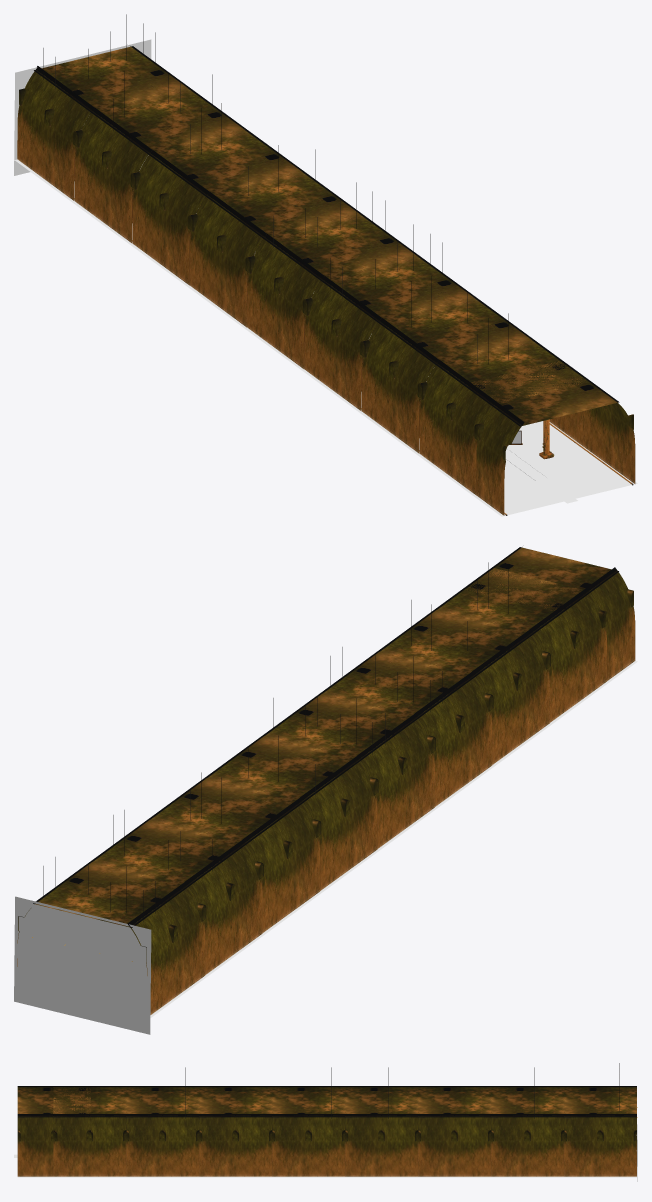
3 renders of one model, top to bottom at view 1: azimuth 30°, elevation 25°; view 2: azimuth 150°, elevation 25°; view 3: azimuth 270°, elevation 25°, orthographic. The views are drawn at different scales.
Visible parts, largest first — view 1: arch001, arch001.008, arch001.003, arch001.002, arch001.006, arch001.007, arch001.001, arch001.004, arch001.005, ceil001.012, ceil001.004, ceil001.008 (+9 smaller); view 2: floor.008, arch001.006, arch001.003, arch001.004, arch001.001, arch001.002, arch001.007, arch001, arch001.005, ceil001.008, ceil001.004, ceil001.002 (+7 smaller); view 3: arch001.001, arch001, arch001.007, arch001.004, arch001.006, arch001.002, arch001.003, arch001.005, arch001.008, ceil001.002, ceil001.004, ceil001.008 (+6 smaller).
Boxes of the visible parts, box(x1,y1,x2,y2) form: arch001: box(419, 340, 604, 495); arch001.008: box(448, 360, 635, 515); arch001.003: box(304, 255, 472, 411); arch001.002: box(247, 213, 415, 368); arch001.006: box(132, 130, 299, 285); arch001.007: box(189, 172, 358, 327); arch001.001: box(362, 297, 528, 453); arch001.004: box(75, 88, 241, 242); arch001.005: box(17, 46, 185, 200); ceil001.012: box(148, 130, 304, 195); ceil001.004: box(263, 213, 419, 279); ceil001.008: box(90, 87, 246, 153); floor.008: box(14, 896, 151, 1034); arch001.006: box(151, 777, 320, 932); arch001.003: box(324, 650, 492, 806); arch001.004: box(94, 819, 262, 974); arch001.001: box(381, 610, 549, 764); arch001.002: box(269, 694, 434, 848); arch001.007: box(210, 735, 377, 890); arch001: box(440, 572, 607, 722); arch001.005: box(17, 862, 205, 1014); ceil001.008: box(90, 819, 246, 885); ceil001.004: box(263, 693, 418, 759); ceil001.002: box(377, 609, 533, 675); arch001.001: box(126, 1086, 199, 1176); arch001: box(53, 1086, 126, 1176); arch001.007: box(345, 1086, 418, 1176); arch001.004: box(491, 1086, 564, 1176); arch001.006: box(418, 1086, 491, 1176); arch001.002: box(272, 1086, 345, 1176); arch001.003: box(199, 1086, 272, 1176); arch001.005: box(564, 1086, 636, 1176); arch001.008: box(17, 1086, 90, 1176); ceil001.002: box(126, 1087, 199, 1117); ceil001.004: box(272, 1087, 345, 1117); ceil001.008: box(491, 1087, 564, 1117).
Bounding box in the file's own units: 27.34 × 28.5 × 171.
Materials: 230 (195 with a texture image).
